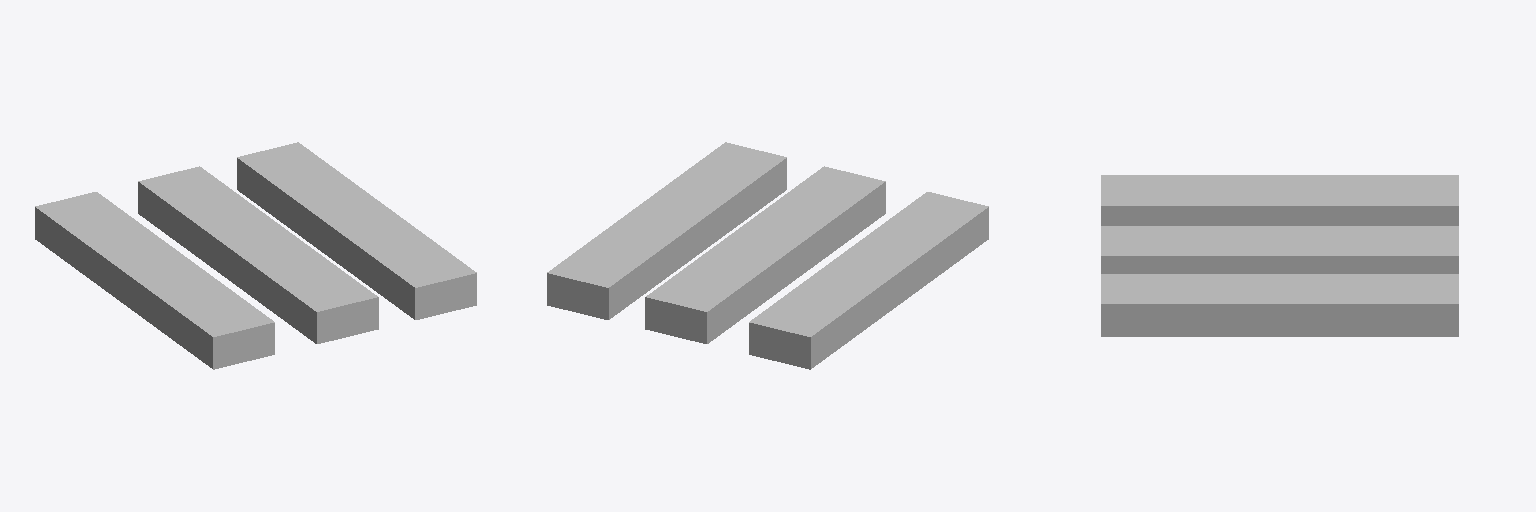
The model's file is m_path2.obj.
3 renders of one model, left to right at view 1: azimuth 30°, elevation 25°; view 2: azimuth 150°, elevation 25°; view 3: azimuth 270°, elevation 25°, orthographic.
Visible parts, largest first — view 1: Cube.002_Cube.003; view 2: Cube.002_Cube.003; view 3: Cube.002_Cube.003.
Boxes of the visible parts, x1,y1,x2,y2 form: Cube.002_Cube.003: [35, 142, 476, 369]; Cube.002_Cube.003: [547, 142, 988, 369]; Cube.002_Cube.003: [1101, 175, 1458, 336].
Size of the model in its own units: 0.8525 by 0.1 by 1.